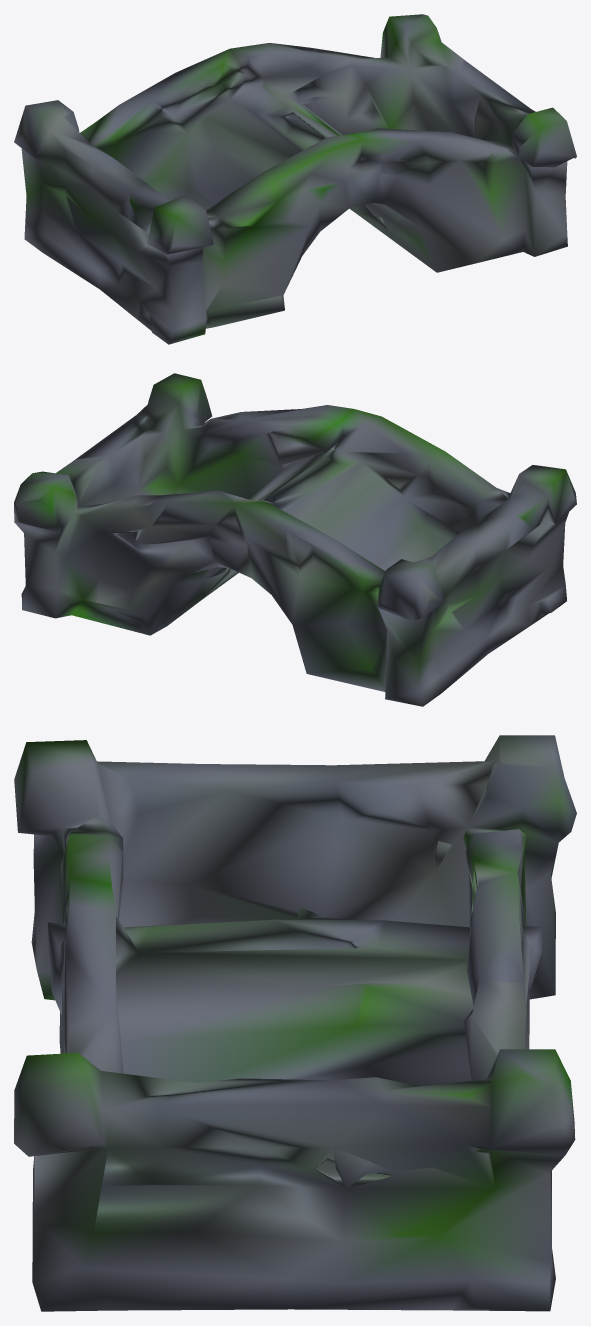
Rendered from gen3d-stone-bridge-lod1.glb.
3 views of the same model, one above another, from view 1: azimuth 30°, elevation 25°; view 2: azimuth 150°, elevation 25°; view 3: azimuth 270°, elevation 25° (orthographic). The views are drawn at different scales.
Visible parts, largest first — view 1: part_0; view 2: part_0; view 3: part_0.
Boxes of the visible parts, bbox=[...] form: part_0: bbox=[14, 14, 576, 344]; part_0: bbox=[14, 373, 576, 706]; part_0: bbox=[14, 735, 576, 1311].
Size of the model in its own units: 2.83 by 0.9926 by 1.89.
